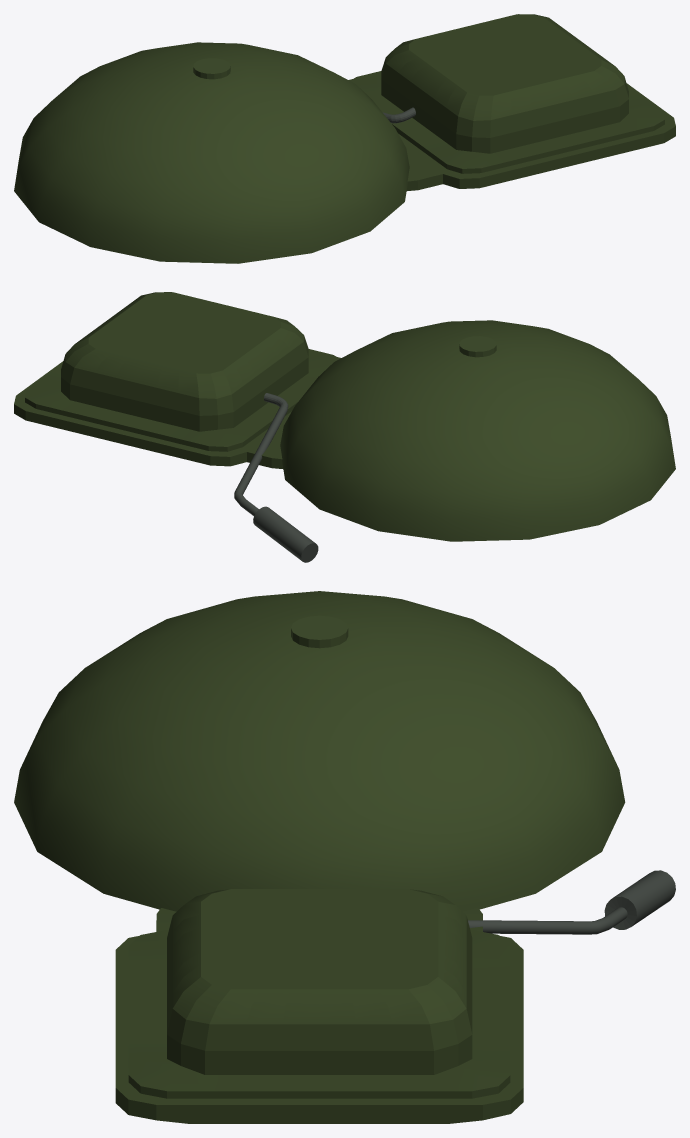
File: Alarm.fbx
3 renders of one model, top to bottom at view 1: azimuth 30°, elevation 25°; view 2: azimuth 150°, elevation 25°; view 3: azimuth 270°, elevation 25°, orthographic. The views are drawn at different scales.
Parts seen in each view (by area): view 1: pSphere1, polySurface1, polySurface2; view 2: pSphere1, polySurface1, polySurface2, pCylinder1; view 3: pSphere1, polySurface1, polySurface2, pCylinder1.
Part boxes in pixels (x1=…): pSphere1: x1=14, y1=42, x2=409, y2=263; polySurface1: x1=350, y1=14, x2=664, y2=173; polySurface2: x1=348, y1=79, x2=675, y2=190; pSphere1: x1=280, y1=320, x2=675, y2=541; polySurface1: x1=25, y1=292, x2=339, y2=451; polySurface2: x1=14, y1=357, x2=340, y2=468; pCylinder1: x1=234, y1=393, x2=318, y2=562; pSphere1: x1=14, y1=591, x2=625, y2=911; polySurface1: x1=128, y1=889, x2=510, y2=1098; polySurface2: x1=115, y1=907, x2=523, y2=1123; pCylinder1: x1=468, y1=870, x2=675, y2=934.
Bounding box in the file's own units: 3.36 × 0.8376 × 2.17.
